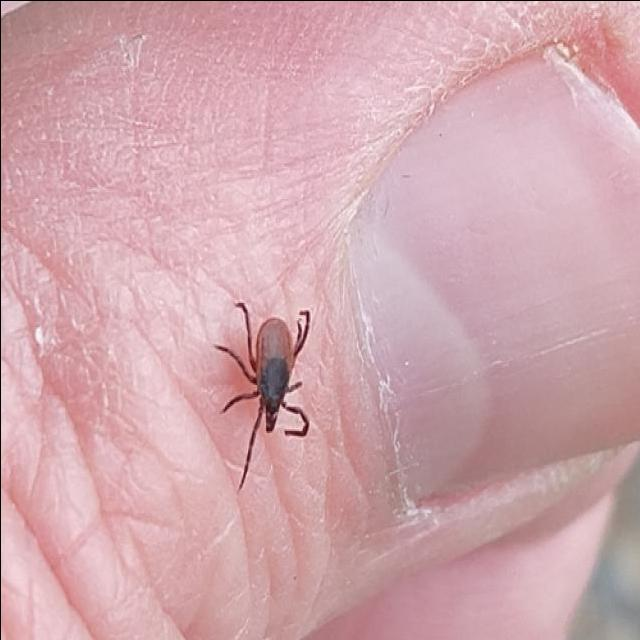Ixodes Ricinus-F: (214, 300, 310, 493)
